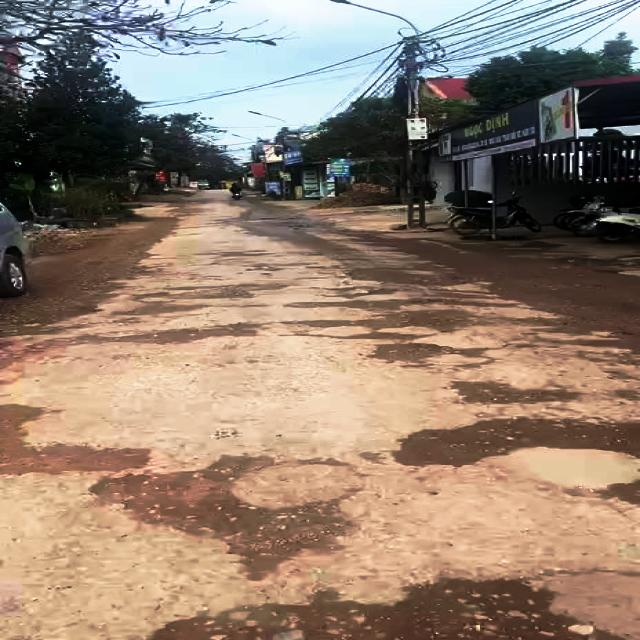pothole: (72, 454, 356, 586), (127, 579, 638, 640), (397, 408, 640, 507), (0, 400, 154, 474), (285, 304, 498, 337), (110, 281, 290, 317), (88, 318, 276, 346), (436, 374, 575, 411), (363, 339, 506, 368), (342, 265, 479, 288)
